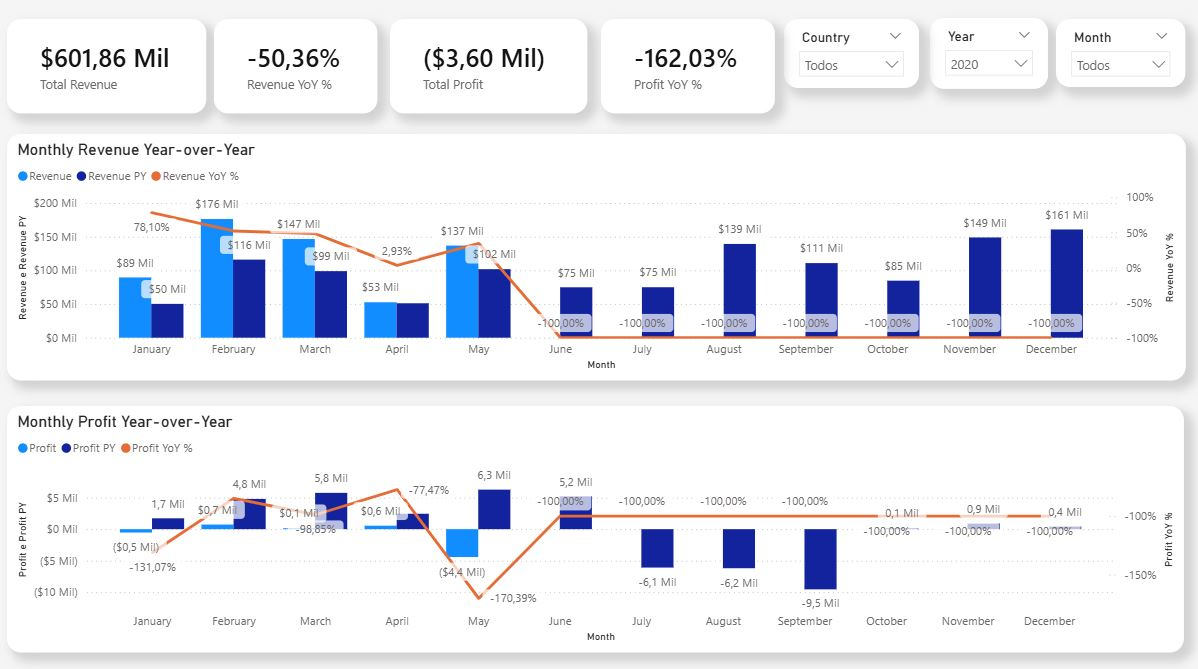

Layout of this report page (visuals, bound fields, positions):
{"tool":"powerbi","page":{"name":"Trend & Growth","canvas":[1280,720],"ordinal":2},"visuals":[{"type":"lineClusteredColumnComboChart","title":"Monthly Revenue Year-over-Year","fields":{"Category":["Sales.OrderDate.Variation.Date Hierarchy.Month"],"Y":["Key Measures.Revenue","Key Measures.Revenue PY"],"Y2":["Key Measures.Revenue YoY %"]},"box":[12.6,147.8,1247.9,260.7],"z":0},{"type":"slicer","fields":{"Values":["Sales.OrderDate.Variation.Date Hierarchy.Year"]},"box":[989.9,25.4,124.9,75.2],"z":1000},{"type":"lineClusteredColumnComboChart","title":"Monthly Profit Year-over-Year","fields":{"Category":["Sales.OrderDate.Variation.Date Hierarchy.Month"],"Y":["Key Measures.Profit","Key Measures.Profit PY"],"Y2":["Key Measures.Profit YoY %"]},"box":[12.6,436.7,1246,260.7],"z":2000},{"type":"slicer","fields":{"Values":["Region.Country"]},"box":[835.3,26.5,142.9,73.1],"z":3000},{"type":"slicer","fields":{"Values":["Sales.OrderDate.Variation.Date Hierarchy.Month"]},"box":[1123.4,26.3,137.1,72],"z":4000},{"type":"cardVisual","fields":{"Data":["Key Measures.Revenue"]},"box":[12.7,26.5,210.7,99.5],"z":5000},{"type":"cardVisual","fields":{"Data":["Key Measures.Revenue YoY %"]},"box":[231.9,26.5,172.6,99.5],"z":6000},{"type":"cardVisual","fields":{"Data":["Key Measures.Profit"]},"box":[418.2,26.5,208.6,99.5],"z":7000},{"type":"cardVisual","fields":{"Data":["Key Measures.Profit YoY %"]},"box":[641.6,26.5,184.2,99.5],"z":8000}]}

Visuals, with their boxes in screenshot pixels (x1, y1, x2, y2), scaled from the page's 1280x720 canvas onto the 1198x669 screenshot:
"Monthly Revenue Year-over-Year" lineClusteredColumnComboChart: pyautogui.locateOnScreen(12, 137, 1180, 380)
slicer - Sales.OrderDate.Variation.Date Hierarchy.Year: pyautogui.locateOnScreen(926, 24, 1043, 93)
"Monthly Profit Year-over-Year" lineClusteredColumnComboChart: pyautogui.locateOnScreen(12, 406, 1178, 648)
slicer - Region.Country: pyautogui.locateOnScreen(782, 25, 916, 93)
slicer - Sales.OrderDate.Variation.Date Hierarchy.Month: pyautogui.locateOnScreen(1051, 24, 1180, 91)
cardVisual - Key Measures.Revenue: pyautogui.locateOnScreen(12, 25, 209, 117)
cardVisual - Key Measures.Revenue YoY %: pyautogui.locateOnScreen(217, 25, 379, 117)
cardVisual - Key Measures.Profit: pyautogui.locateOnScreen(391, 25, 587, 117)
cardVisual - Key Measures.Profit YoY %: pyautogui.locateOnScreen(600, 25, 773, 117)
